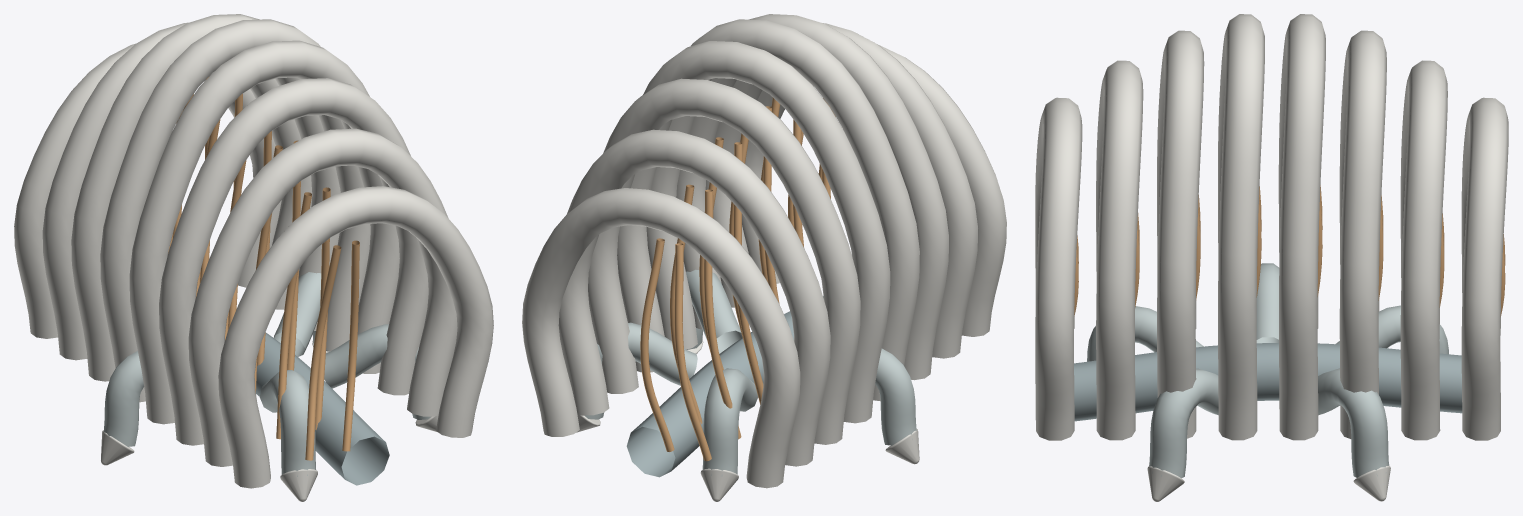
The model's file is bio_blind_harp_10_near.glb.
The picture shows the model from 3 angles, left to right: view 1: azimuth 30°, elevation 25°; view 2: azimuth 150°, elevation 25°; view 3: azimuth 270°, elevation 25°; orthographic projection. The views are drawn at different scales.
Visible parts, largest first — view 1: Open rib arch, Open rib arch.002, Open rib arch.001, Open rib arch.003, Open rib arch.004, Open rib arch.005, Open rib arch.006, Open rib arch.007, Low axial spine, Resonance filament, Crooked support.002, Crooked support.001 (+8 smaller); view 2: Open rib arch.007, Open rib arch.005, Open rib arch.006, Open rib arch.004, Open rib arch.003, Open rib arch.002, Open rib arch.001, Open rib arch, Low axial spine, Resonance filament.014, Crooked support, Crooked support.001 (+8 smaller); view 3: Open rib arch.004, Open rib arch.003, Open rib arch.001, Open rib arch.006, Open rib arch.005, Open rib arch.002, Open rib arch, Open rib arch.007, Low axial spine, Crooked support.003, Crooked support.004, Crooked support.001 (+4 smaller).
Part boxes in pixels (x1,y1,x2,y2): Open rib arch: (218, 186, 493, 488); Open rib arch.002: (159, 78, 428, 445); Open rib arch.001: (188, 128, 457, 466); Open rib arch.003: (129, 40, 399, 424); Open rib arch.004: (100, 19, 370, 402); Open rib arch.005: (71, 14, 340, 381); Open rib arch.006: (42, 22, 312, 360); Open rib arch.007: (14, 43, 281, 338); Low axial spine: (256, 332, 389, 485); Resonance filament: (305, 240, 359, 460); Crooked support.002: (259, 370, 315, 476); Crooked support.001: (102, 351, 143, 446); Open rib arch.007: (522, 188, 800, 488); Open rib arch.005: (588, 78, 860, 444); Open rib arch.006: (558, 129, 830, 466); Open rib arch.004: (617, 41, 890, 423); Open rib arch.003: (646, 19, 919, 401); Open rib arch.002: (676, 14, 948, 380); Open rib arch.001: (705, 23, 977, 358); Open rib arch: (742, 45, 1006, 336); Low axial spine: (626, 296, 823, 477); Resonance filament.014: (640, 238, 711, 461); Crooked support: (702, 368, 758, 476); Crooked support.001: (875, 348, 916, 445); Open rib arch.004: (1278, 14, 1325, 440); Open rib arch.003: (1218, 14, 1264, 440); Open rib arch.001: (1096, 60, 1143, 440); Open rib arch.006: (1400, 60, 1447, 440); Open rib arch.005: (1339, 30, 1386, 438); Open rib arch.002: (1157, 30, 1204, 438); Open rib arch: (1035, 97, 1082, 440); Open rib arch.007: (1461, 97, 1508, 440); Low axial spine: (1074, 343, 1462, 421); Crooked support.003: (1149, 368, 1218, 478); Crooked support.004: (1318, 368, 1389, 477); Crooked support.001: (1256, 263, 1279, 343).
Bounding box in the file's own units: 1.84 × 2.32 × 2.44.
